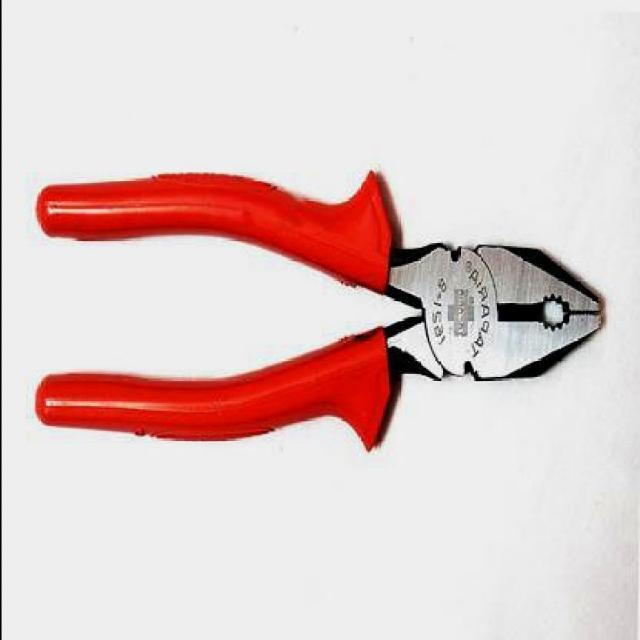pliers: (34, 166, 606, 460)
